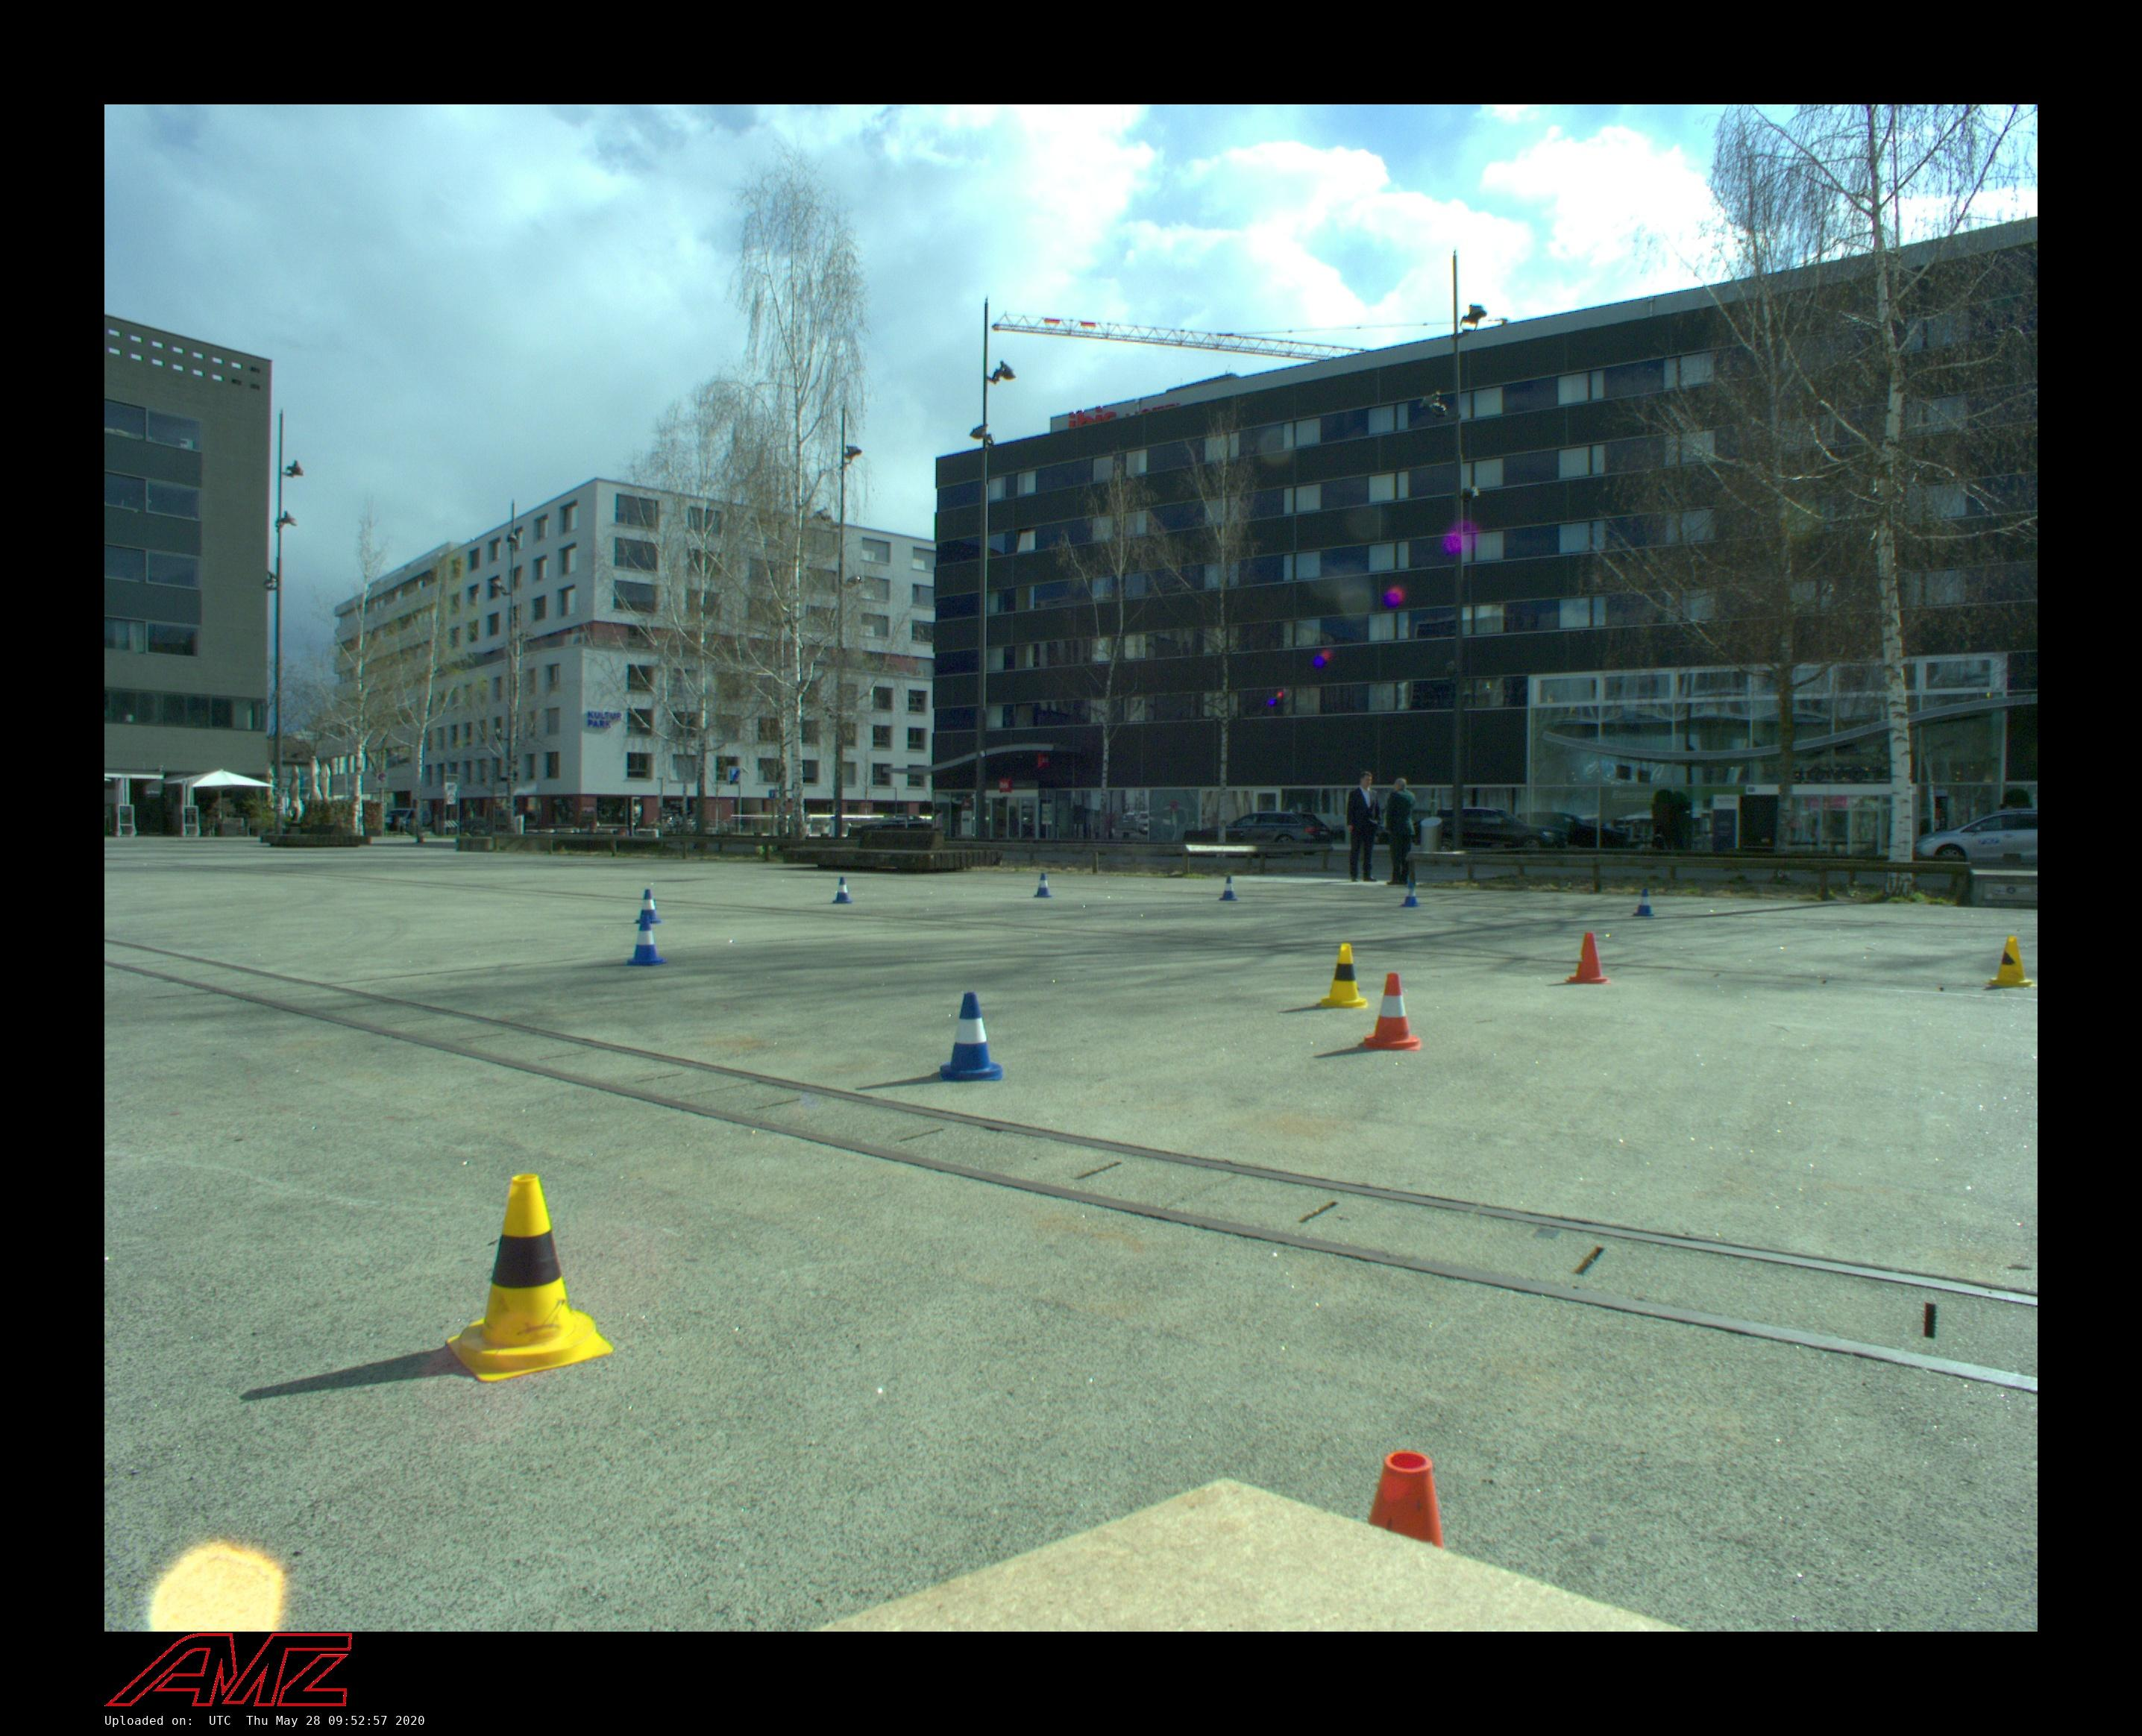blue_cone: (939, 992, 1003, 1081), (624, 916, 666, 965), (636, 887, 661, 925), (833, 877, 854, 903), (1634, 889, 1655, 916), (1219, 875, 1238, 902), (1033, 873, 1052, 898), (1401, 884, 1419, 907)
orange_cone: (1359, 973, 1423, 1050), (1568, 932, 1612, 983)
yellow_cone: (446, 1174, 613, 1382), (1318, 944, 1368, 1010), (1986, 935, 2037, 988)
